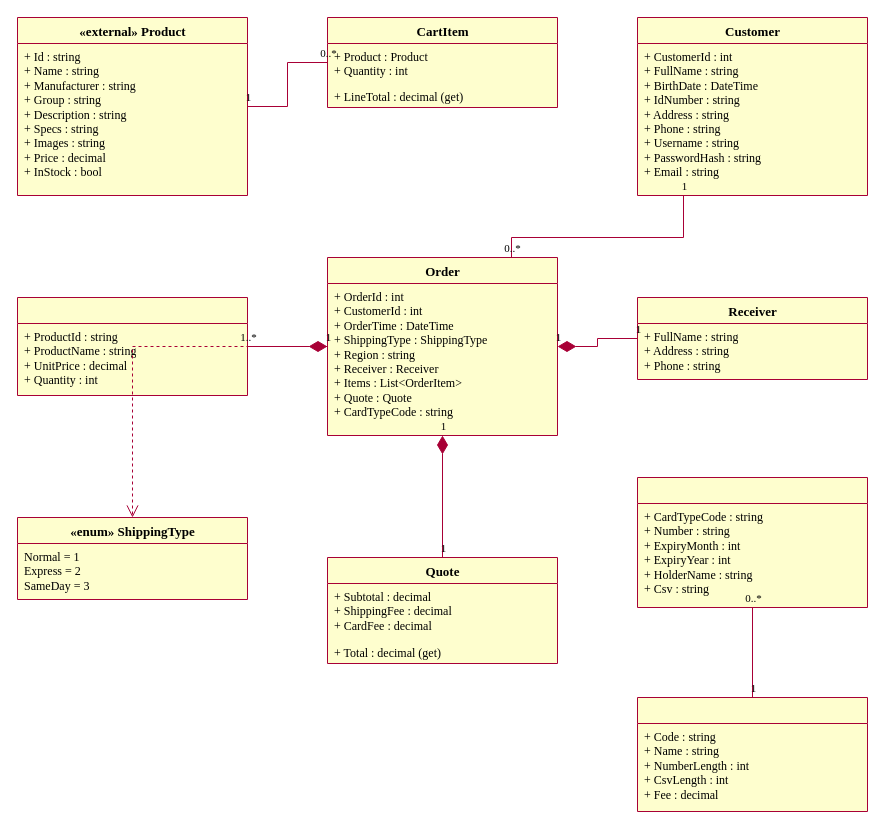
This 885x832 diagram has some shape labels left out. The shapes that lost their labels are listed below. From the top down, each one's box as (x1, y1, x2, y2) in pixels, then its label:
(16, 296, 248, 396): OrderItem
(636, 476, 868, 608): CardInfo
(636, 696, 868, 812): CardType
